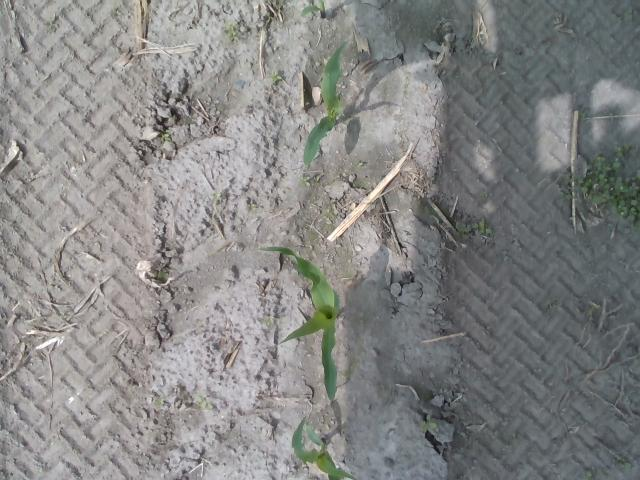Maize: (258, 246, 340, 402), (303, 40, 345, 169), (292, 416, 356, 480), (302, 0, 326, 20)
Weeds: (562, 142, 640, 230), (454, 218, 498, 237), (225, 20, 242, 40), (420, 414, 437, 433), (298, 176, 320, 187), (196, 398, 214, 409), (269, 70, 283, 80), (162, 132, 174, 143), (247, 200, 257, 208)
